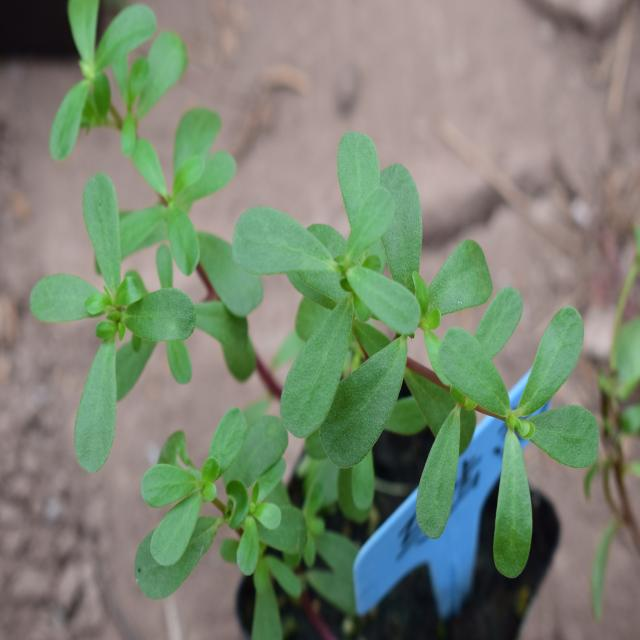purslane: (23, 27, 620, 563)
